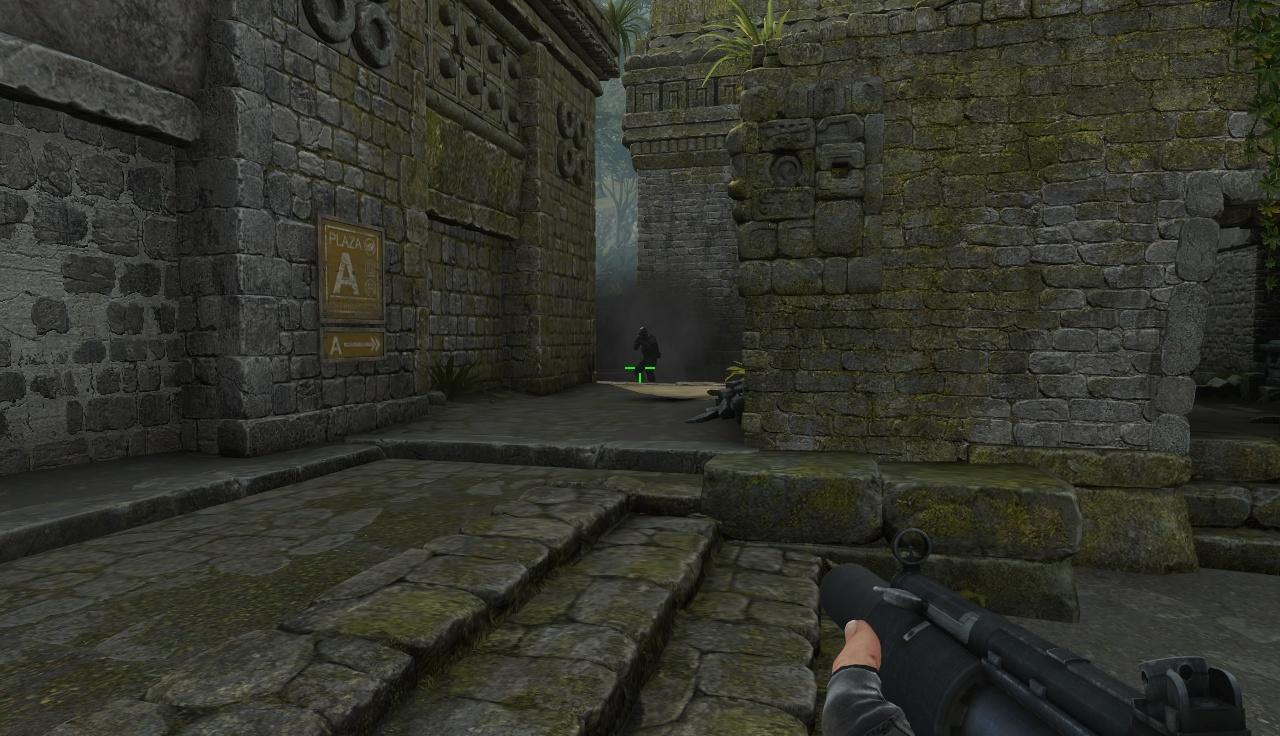ct: (634, 328, 660, 384)
cthead: (639, 326, 649, 338)
